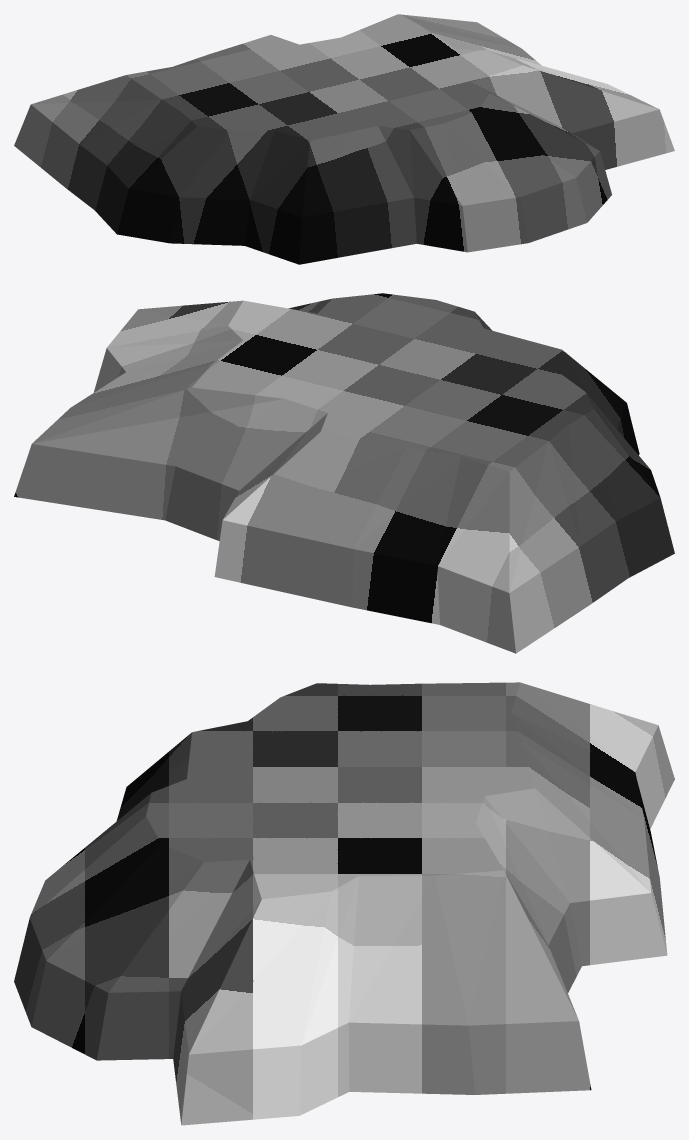
The model's file is rock_331x03.gltf.
3 views of the same model, one above another, from view 1: azimuth 30°, elevation 25°; view 2: azimuth 150°, elevation 25°; view 3: azimuth 270°, elevation 25° (orthographic). The views are drawn at different scales.
Parts seen in each view (by area): view 1: Rock_331x3; view 2: Rock_331x3; view 3: Rock_331x3.
Part boxes in pixels (x1,y1,x2,y2): Rock_331x3: (14,14,674,264); Rock_331x3: (14,293,674,653); Rock_331x3: (14,682,674,1125).
Bounding box in the file's own units: 0.6865 × 0.1244 × 0.5389.
1 material, 1 textured.
